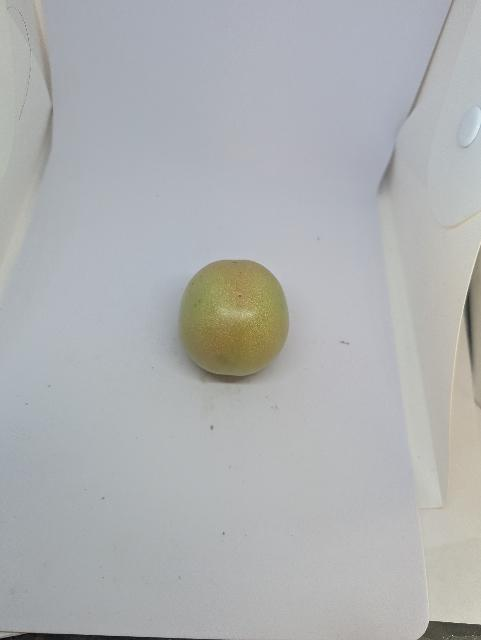breaker: (178, 256, 292, 378)
